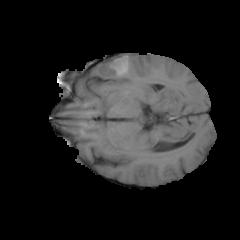glioma: (90, 53, 136, 86)
